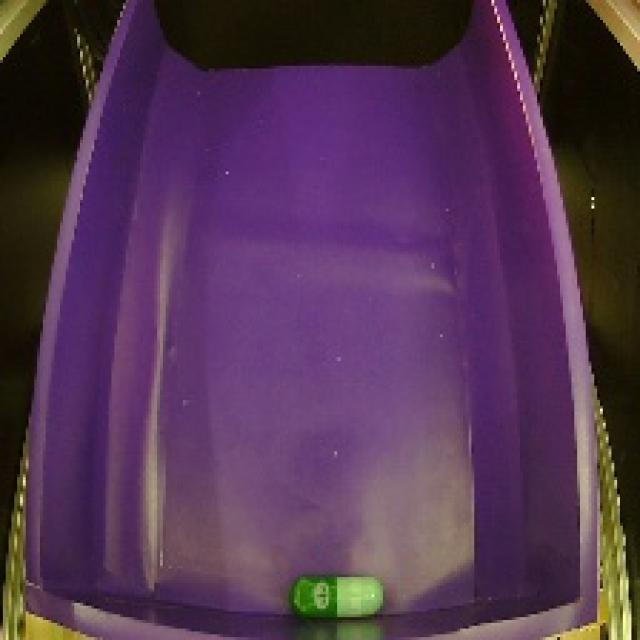small: (280, 569, 392, 625)
